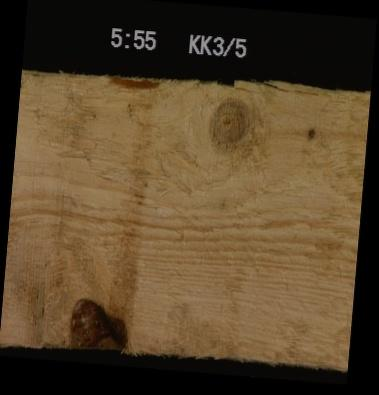small_knot: (303, 124, 318, 141)
sound_knot: (205, 92, 268, 163)
